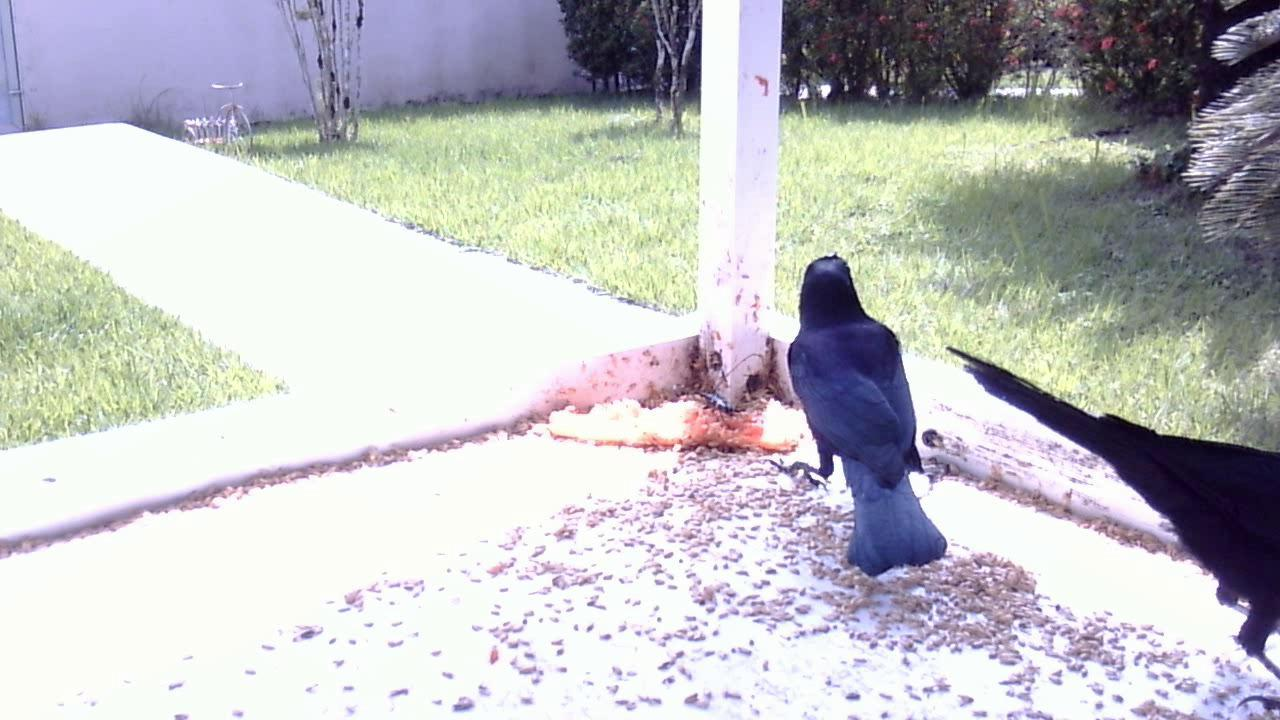chupim: (936, 324, 1275, 705), (761, 248, 961, 582)
